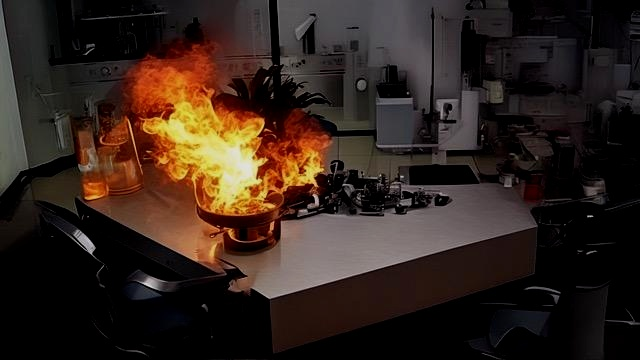fire: (124, 24, 336, 242)
